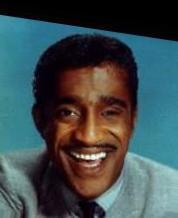face: (57, 96, 118, 173)
